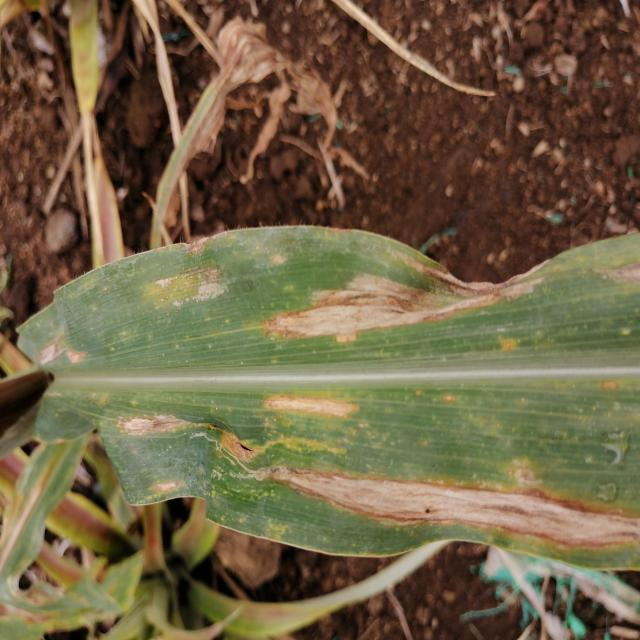Corn_Leaf_Blight: (68, 230, 640, 576)
